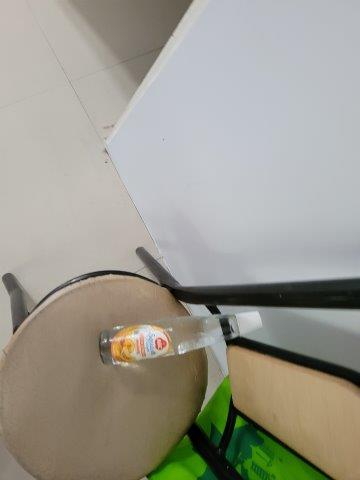botolkaca: (100, 312, 264, 365)
